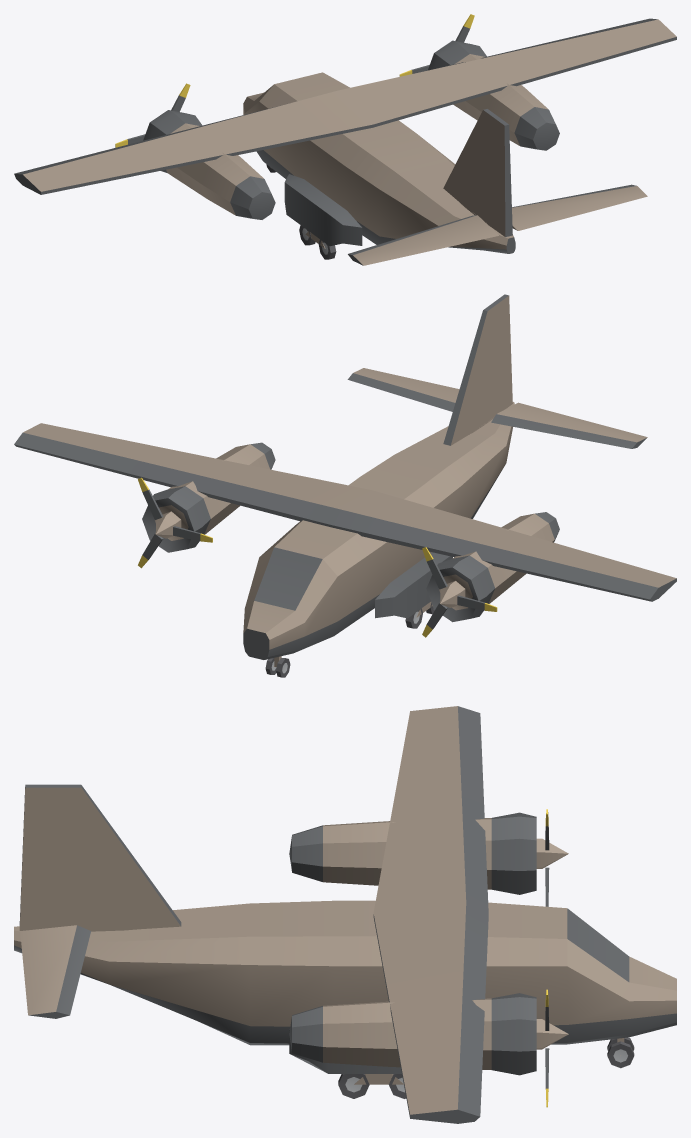
3 renders of one model, top to bottom at view 1: azimuth 30°, elevation 25°; view 2: azimuth 150°, elevation 25°; view 3: azimuth 270°, elevation 25°, orthographic. The views are drawn at different scales.
Parts seen in each view (by area): view 1: Tail_Horizontal; view 2: Tail_Horizontal; view 3: Tail_Horizontal.
Part boxes in pixels (x1,y1,x2,y2): Tail_Horizontal: (14, 14, 676, 265); Tail_Horizontal: (14, 294, 676, 677); Tail_Horizontal: (14, 706, 676, 1123).
Size of the model in its own units: 1700 by 545 by 1180.
